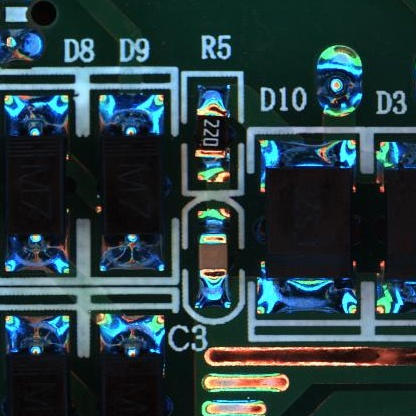spot: (313, 43, 364, 116), (1, 28, 44, 64)
